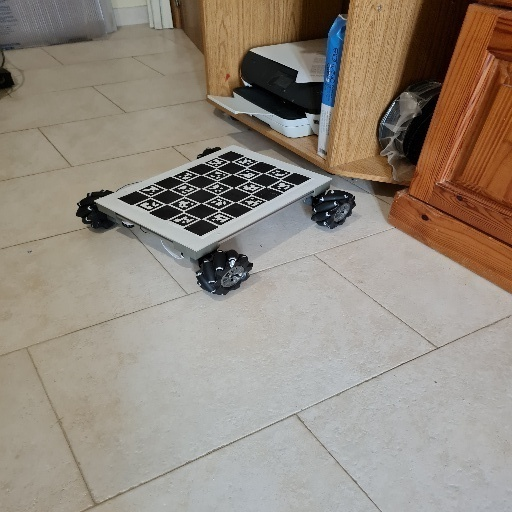Omniwheel: (77, 144, 355, 297)
